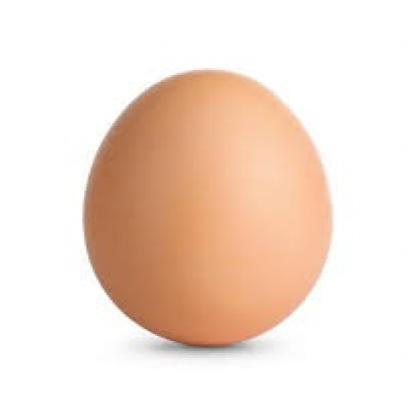egg: (80, 64, 336, 348)
